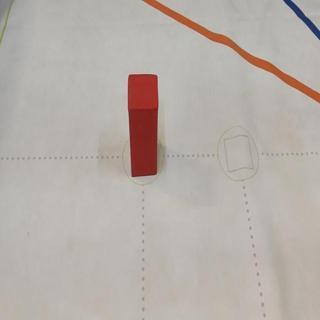redbox: (125, 71, 157, 178)
